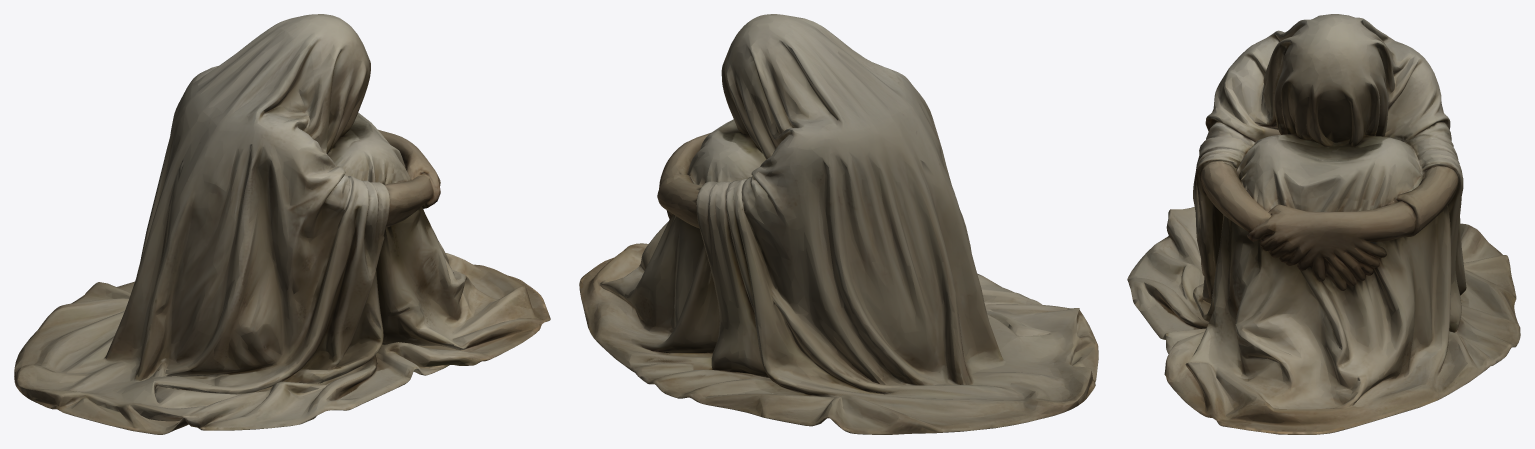
File: Curled Up Corpse.fbx
The picture shows the model from 3 angles, left to right: view 1: azimuth 30°, elevation 25°; view 2: azimuth 150°, elevation 25°; view 3: azimuth 270°, elevation 25°; orthographic projection. The views are drawn at different scales.
Parts seen in each view (by area): view 1: node_0; view 2: node_0; view 3: node_0.
Boxes of the visible parts, <box> form: node_0: <box>14,14,550,434</box>; node_0: <box>579,14,1098,434</box>; node_0: <box>1127,14,1520,434</box>.
Size of the model in its own units: 1.03 by 0.6104 by 0.6892.
1 material, 1 textured.
